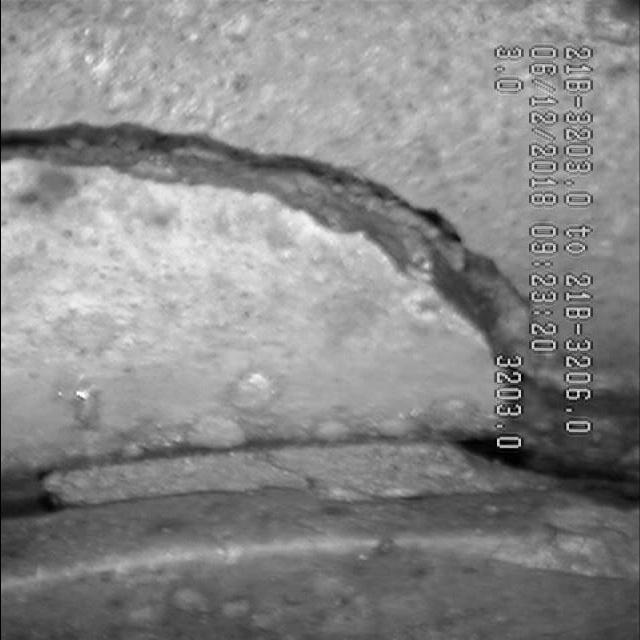Fracture: (0, 110, 488, 254)
